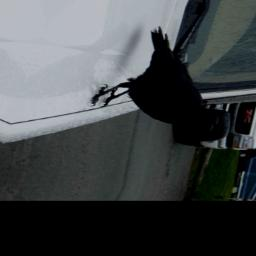Crow: (82, 23, 251, 134)
